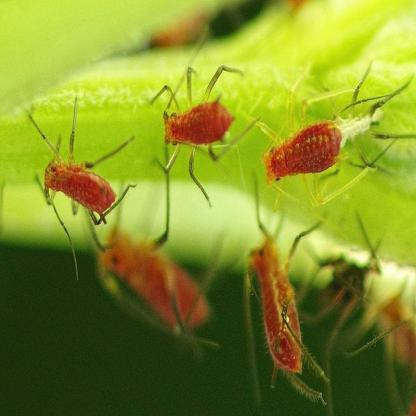aphid: (261, 63, 399, 206), (92, 204, 218, 343), (242, 223, 330, 400), (28, 103, 130, 238), (152, 61, 251, 191), (360, 270, 416, 401)
